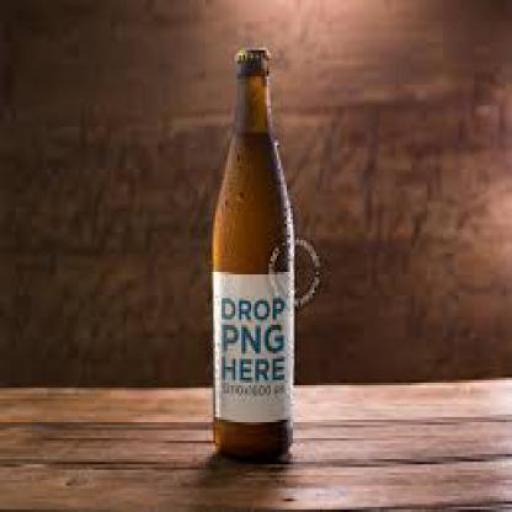glass: (209, 48, 293, 458)
metal: (233, 44, 267, 56)
